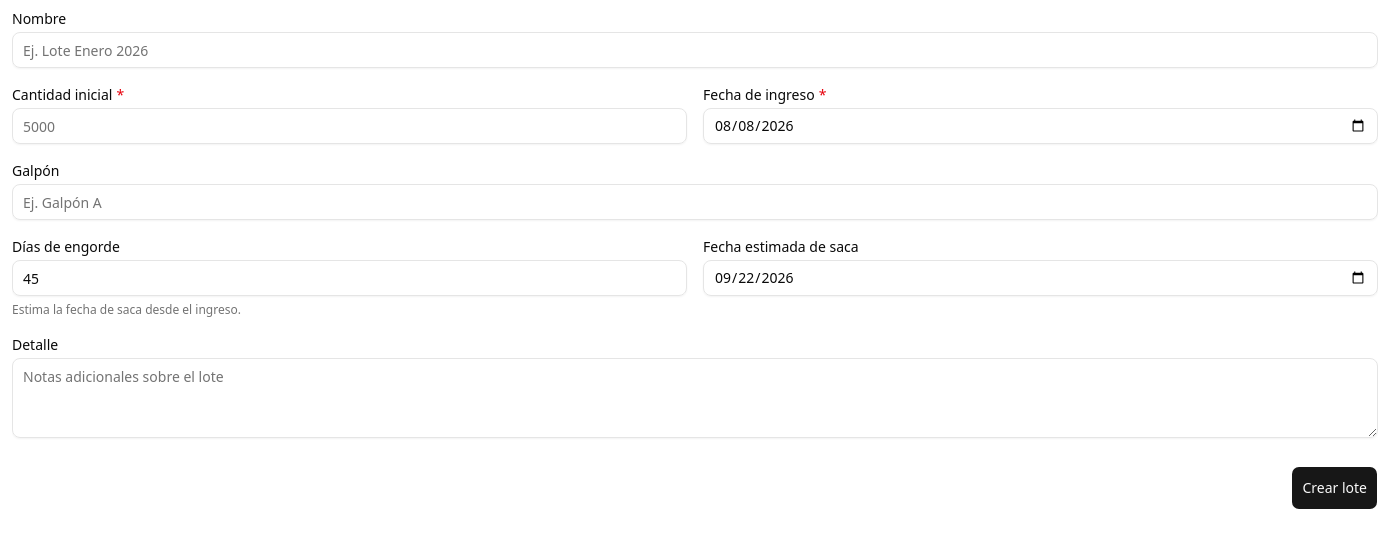
LoteForm — modo crear › muestra error si se borra la fecha de ingreso y se envía
Clear the date field labelled "Fecha de ingreso *" at (1040, 126), box [703,108,1378,144]
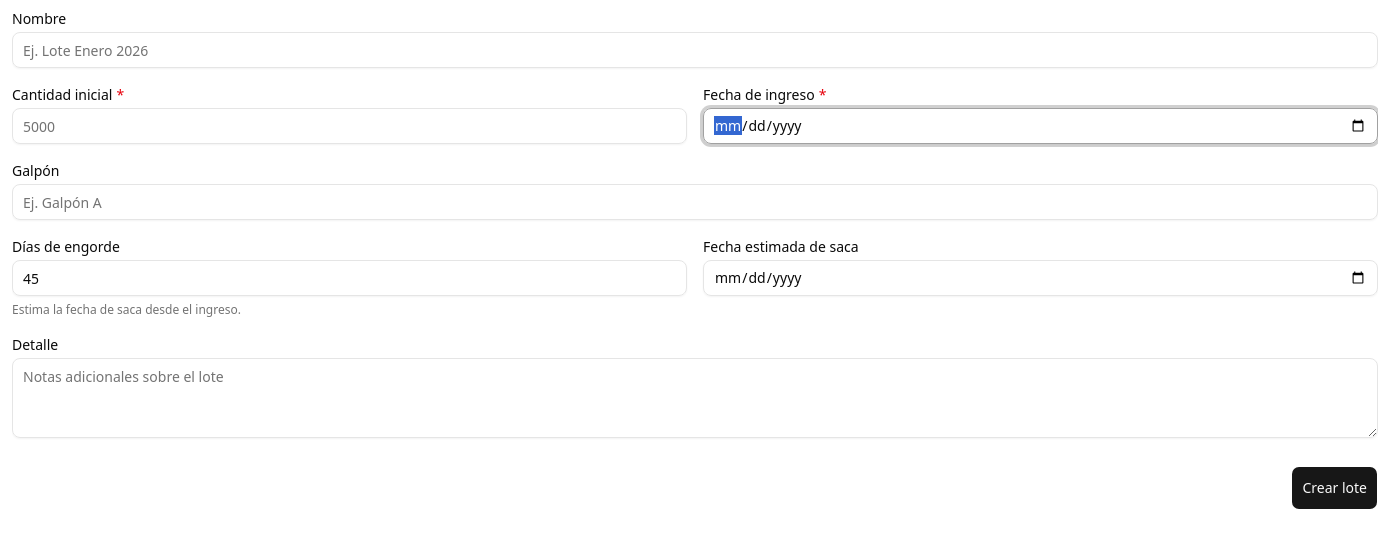
Click the button "Crear lote" at (1335, 488), box [1291,466,1378,510]
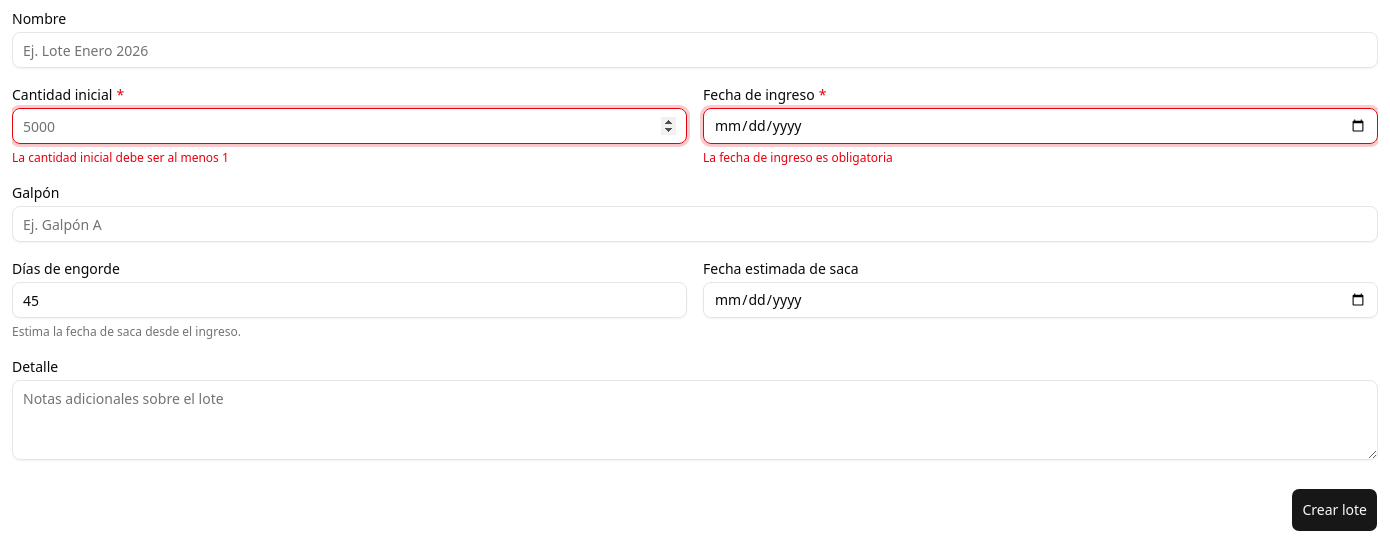
Expected: the text "La fecha de ingreso es obligatoria" is shown, [703,149,893,166]
